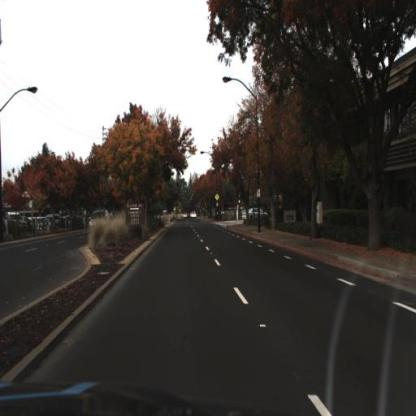car: (87, 209, 112, 233), (241, 208, 270, 224)
